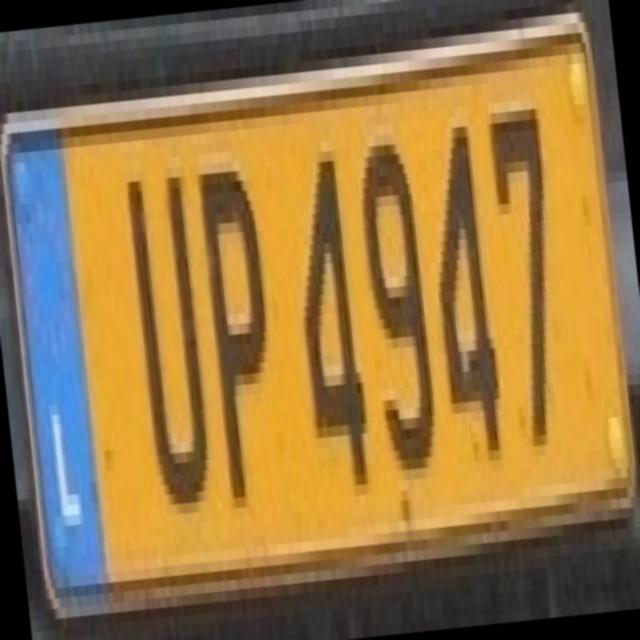4: (400, 85, 510, 455), (271, 129, 378, 490)
7: (468, 78, 575, 448)
9: (340, 112, 446, 472)
P: (180, 138, 290, 510)
U: (110, 145, 222, 517)
